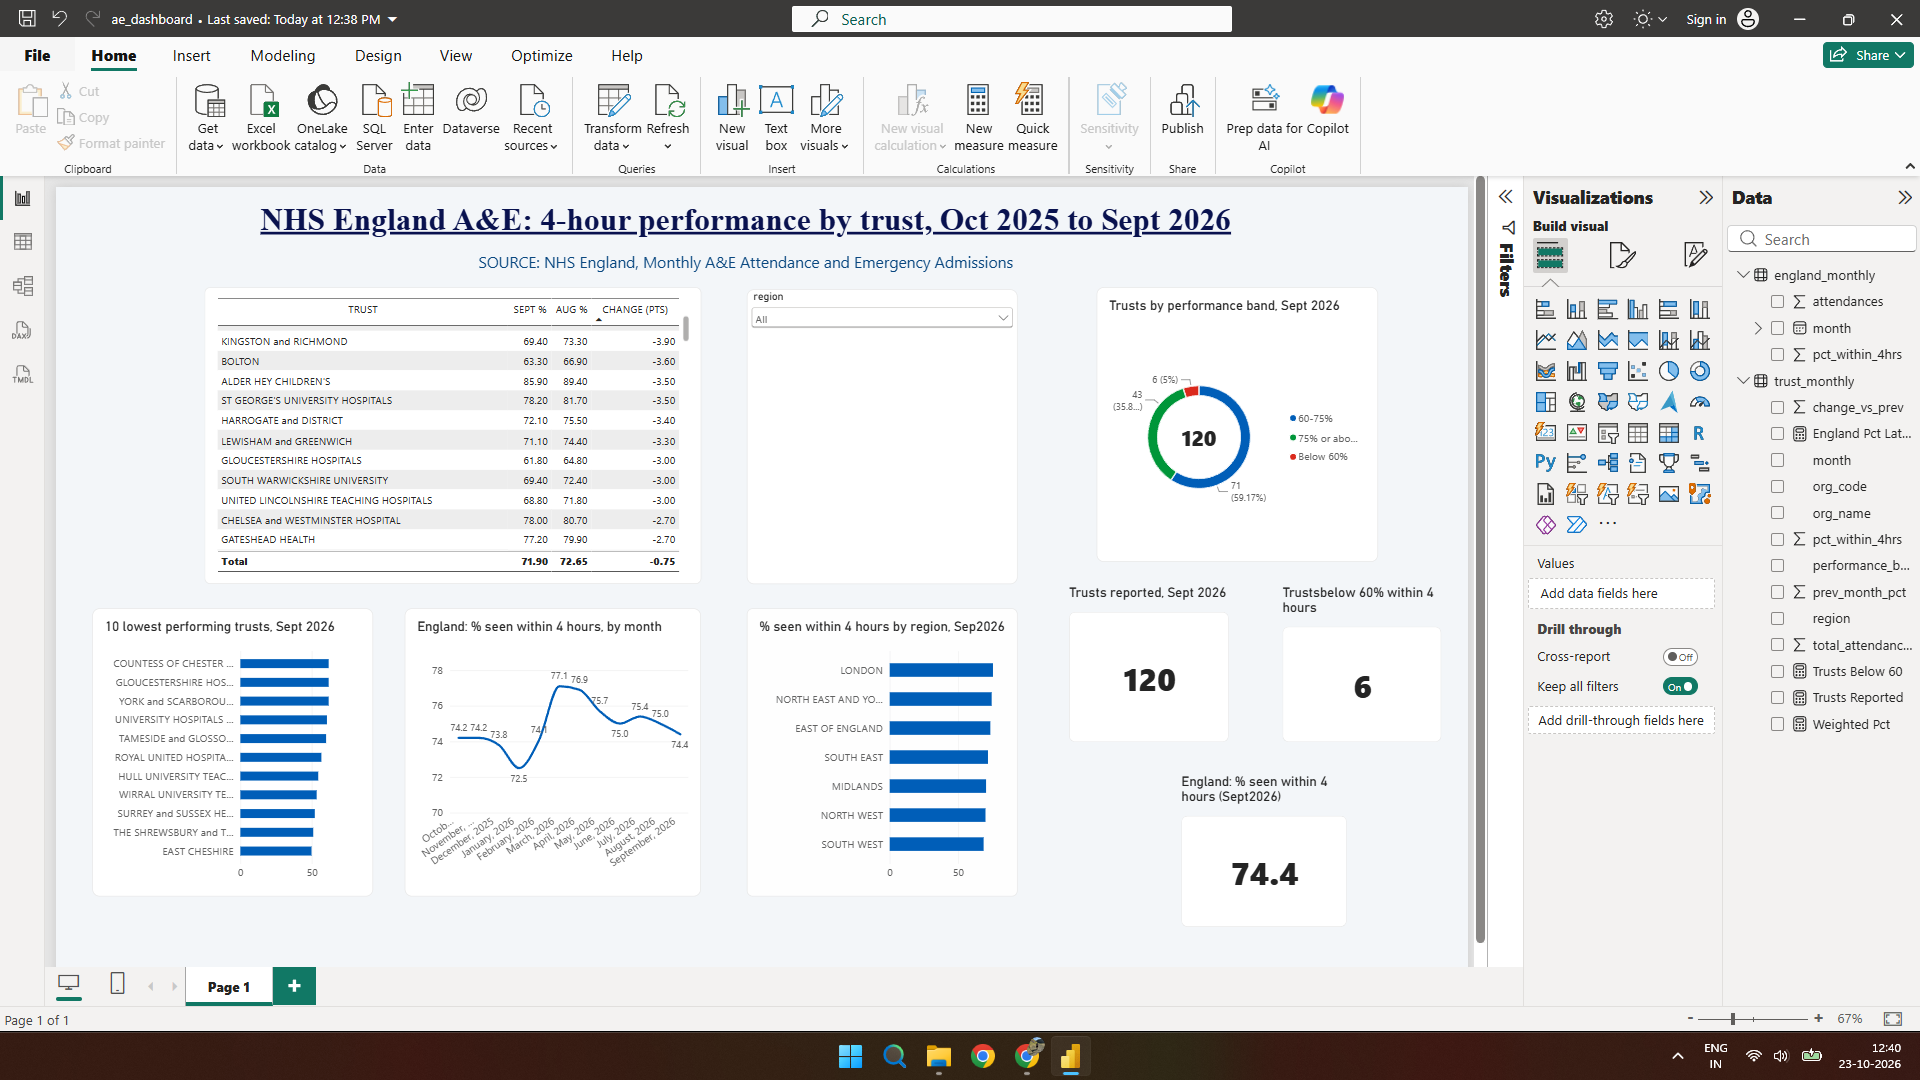

What the dashboard file says about the page in this screenshot:
{"tool":"powerbi","page":{"name":"Page 1","canvas":[1920,1080],"ordinal":0},"visuals":[{"type":"textbox","box":[10,0,280,280],"z":0},{"type":"textbox","box":[10.5,0,1854.6,1079.7],"z":1000},{"type":"cardVisual","title":"Trusts reported, Sept 2026","fields":{"Data":["trust_monthly.Trusts Reported"]},"box":[1377,540.6,217.7,213.2],"z":2000},{"type":"cardVisual","title":"England: % seen within 4 hours (Sept2026)","fields":{"Data":["trust_monthly.England Pct Latest"]},"box":[1530.2,798.9,225.2,207.2],"z":3000},{"type":"cardVisual","title":"Trustsbelow 60% within 4 hours","fields":{"Data":["trust_monthly.Trusts Below 60"]},"box":[1666.8,540.6,216.2,213.2],"z":4000},{"type":"lineChart","title":"England:  % seen within 4 hours, by month","fields":{"Category":["england_monthly.month"],"Y":["Avg(england_monthly.pct_within_4hrs)"]},"box":[474.5,572.1,402.4,391.9],"z":5000},{"type":"clusteredBarChart","title":"10 lowest performing trusts, Sept 2026","fields":{"Category":["trust_monthly.org_name"],"Y":["Avg(trust_monthly.pct_within_4hrs)"]},"box":[49.6,572.1,381.4,391.9],"z":6000},{"type":"tableEx","fields":{"Values":["trust_monthly.org_name","Avg(trust_monthly.pct_within_4hrs)","Avg(trust_monthly.prev_month_pct)","Avg(trust_monthly.change_vs_prev)"]},"box":[201.2,136.7,675.7,403.9],"z":7000},{"type":"slicer","fields":{"Values":["trust_monthly.region"]},"box":[938.5,139.7,367.9,400.9],"z":8000},{"type":"donutChart","title":"Trusts by performance band, Sept 2026","fields":{"Category":["trust_monthly.performance_band"],"Y":["CountNonNull(trust_monthly.org_code)"]},"box":[1414.6,136.7,382.9,373.9],"z":9000},{"type":"clusteredBarChart","title":"% seen within 4 hours by region, Sep2026","fields":{"Category":["trust_monthly.region"],"Y":["trust_monthly.Weighted Pct"]},"box":[938.5,572.1,367.9,391.9],"z":10000}]}

Visuals, with their boxes on the page's 1920x1080 design canvas (x1, y1, x2, y2). These are canvas units, not pixel positions in the 1920x1080 screenshot, which may show the page scaled, cropped or inside an application window:
textbox: x1=10, y1=0, x2=290, y2=280
textbox: x1=10, y1=0, x2=1865, y2=1080
"Trusts reported, Sept 2026" cardVisual: x1=1377, y1=541, x2=1595, y2=754
"England: % seen within 4 hours (Sept2026)" cardVisual: x1=1530, y1=799, x2=1755, y2=1006
"Trustsbelow 60% within 4 hours" cardVisual: x1=1667, y1=541, x2=1883, y2=754
"England:  % seen within 4 hours, by month" lineChart: x1=474, y1=572, x2=877, y2=964
"10 lowest performing trusts, Sept 2026" clusteredBarChart: x1=50, y1=572, x2=431, y2=964
tableEx - trust_monthly.org_name x Avg(trust_monthly.pct_within_4hrs): x1=201, y1=137, x2=877, y2=541
slicer - trust_monthly.region: x1=938, y1=140, x2=1306, y2=541
"Trusts by performance band, Sept 2026" donutChart: x1=1415, y1=137, x2=1798, y2=511
"% seen within 4 hours by region, Sep2026" clusteredBarChart: x1=938, y1=572, x2=1306, y2=964
